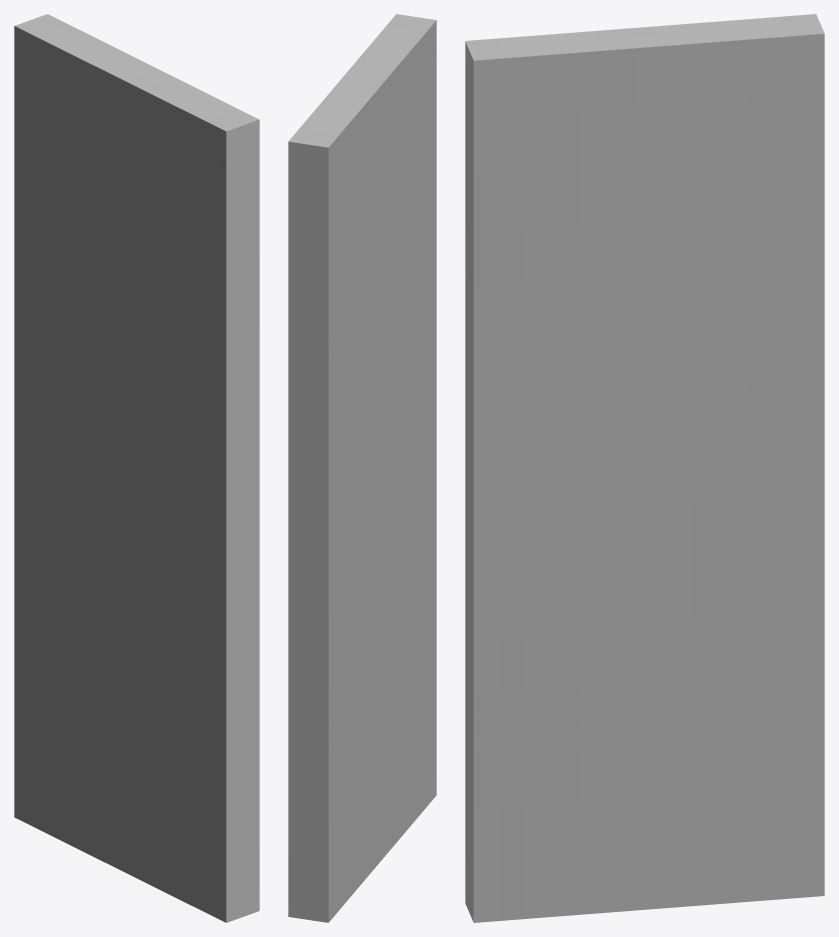
File: fan_wheel__fan_blade_3.glb
3 renders of one model, left to right at view 1: azimuth 30°, elevation 25°; view 2: azimuth 150°, elevation 25°; view 3: azimuth 270°, elevation 25°, orthographic. The views are drawn at different scales.
Parts seen in each view (by area): view 1: geometry_0; view 2: geometry_0; view 3: geometry_0.
Boxes of the visible parts, bbox=[...] form: geometry_0: bbox=[14, 14, 259, 922]; geometry_0: bbox=[288, 14, 436, 922]; geometry_0: bbox=[465, 14, 824, 922].
Bounding box in the file's own units: 0.0186 × 0.16 × 0.0605.
Materials: 1 (1 with a texture image).
